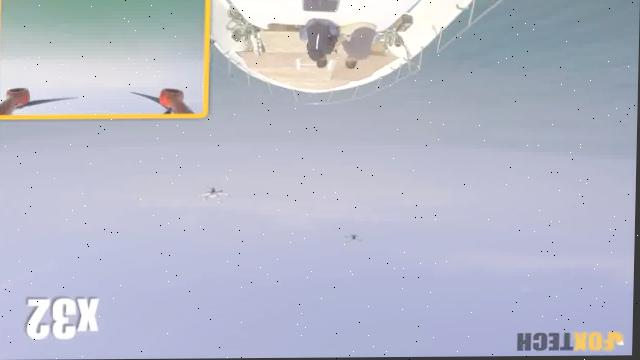drone: (196, 183, 237, 209), (339, 229, 371, 251)
